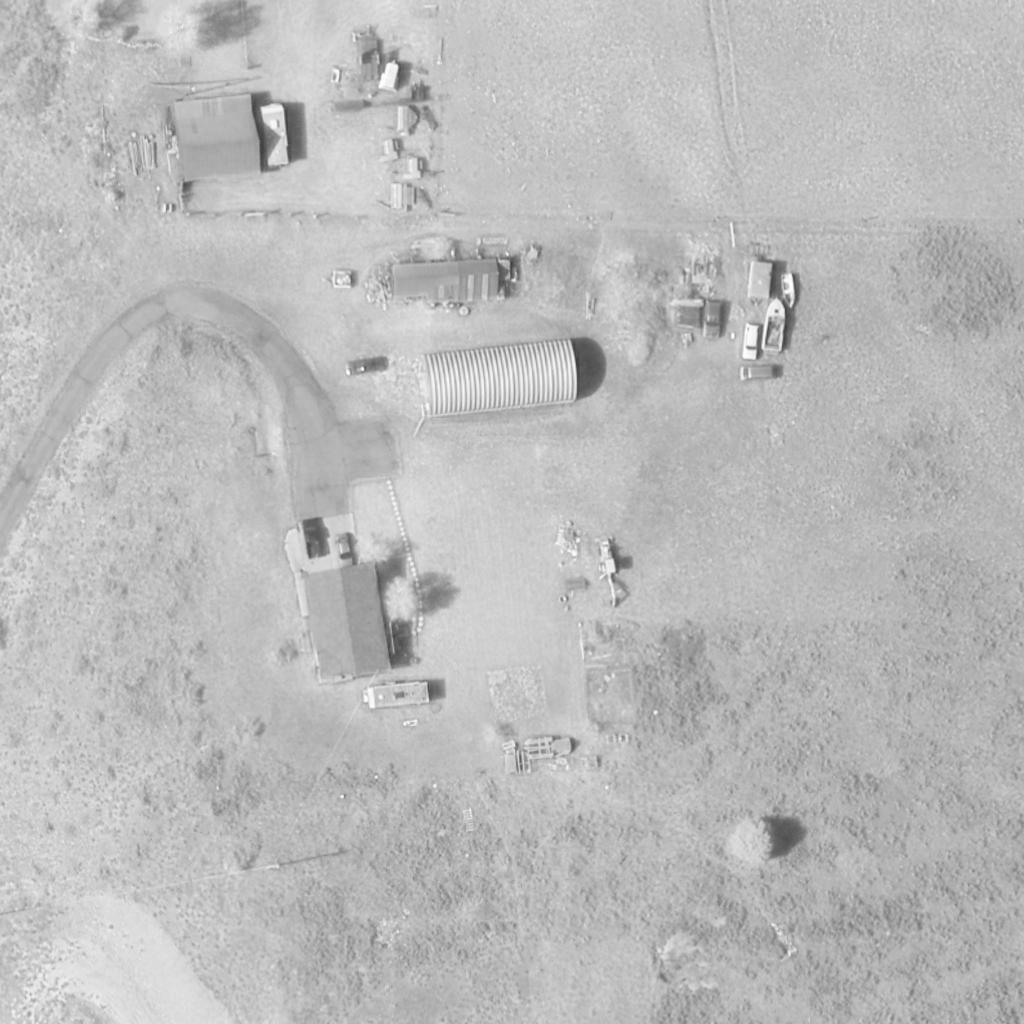vehicle: (590, 538, 630, 608), (365, 683, 431, 705), (766, 300, 788, 352), (701, 300, 729, 340), (301, 517, 327, 559), (738, 325, 764, 359), (341, 358, 387, 376), (782, 274, 802, 308), (335, 534, 355, 568), (740, 367, 776, 381)
